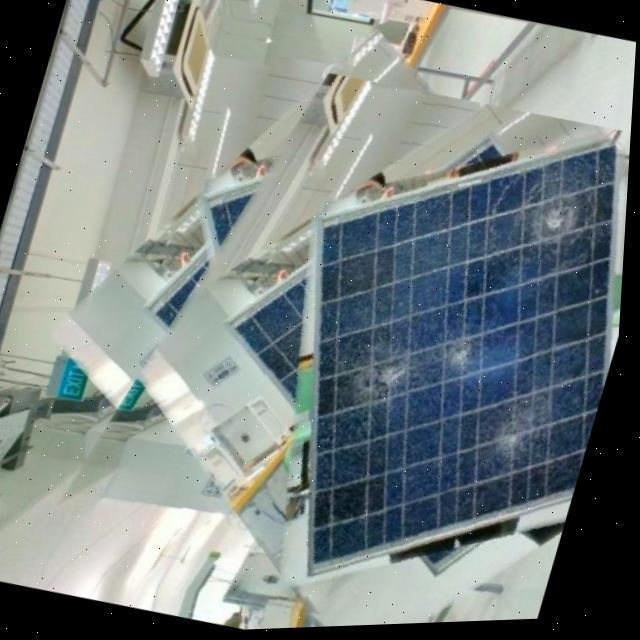Anomaly Solar Panel: (318, 145, 620, 570)
Structural Damage: (334, 289, 511, 441), (476, 147, 628, 292), (466, 386, 569, 501)
